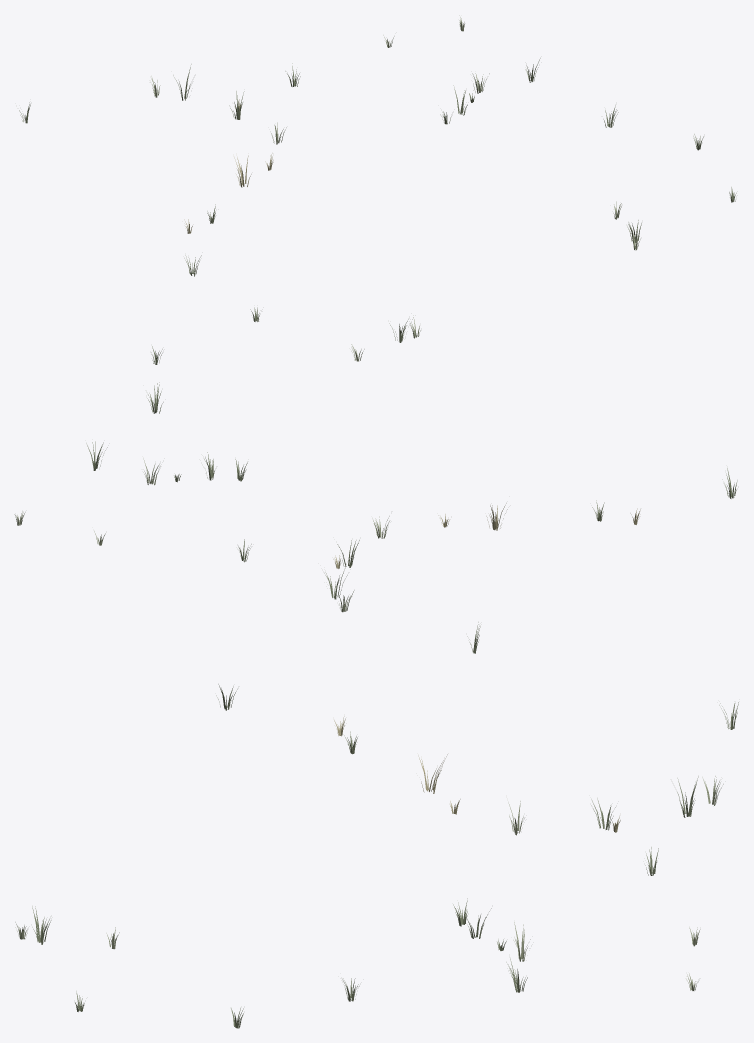
The model's file is AE_Grass_-3_-1.fbx.
The picture shows the model from 3 angles, top to bottom: view 1: azimuth 30°, elevation 25°; view 2: azimuth 150°, elevation 25°; view 3: azimuth 270°, elevation 25°; orthographic projection. The views are drawn at different scales.
Visible parts, largest first — view 1: AE_Grass_-3_-1_LOD0; view 2: AE_Grass_-3_-1_LOD0; view 3: AE_Grass_-3_-1_LOD0.
Part boxes in pixels (<box>): AE_Grass_-3_-1_LOD0: <box>19,15,736,276</box>; AE_Grass_-3_-1_LOD0: <box>14,307,737,653</box>; AE_Grass_-3_-1_LOD0: <box>15,684,738,1028</box>.
Size of what is drawn, in the model's own units: 1723 by 114 by 1634.
